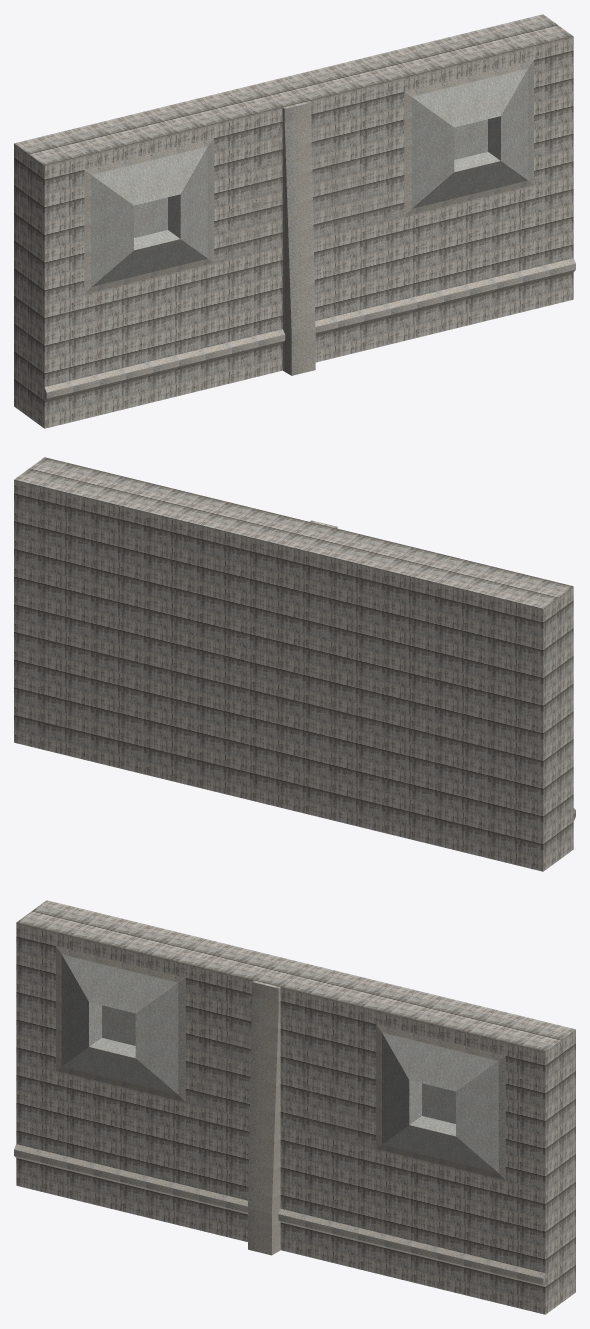
The picture shows the model from 3 angles, top to bottom: view 1: azimuth 30°, elevation 25°; view 2: azimuth 150°, elevation 25°; view 3: azimuth 330°, elevation 25°; orthographic projection.
Visible parts, largest first — view 1: TexturesCom_ConcreteLeaking0255_1_M, TexturesCom_MetalScratches0021_M, TexturesCom_BrickMessy0175_2_M; view 2: TexturesCom_ConcreteLeaking0255_1_M; view 3: TexturesCom_ConcreteLeaking0255_1_M, TexturesCom_MetalScratches0021_M, TexturesCom_BrickMessy0175_2_M.
Boxes of the visible parts, left/top/right/bottom form: TexturesCom_ConcreteLeaking0255_1_M: left=14, top=14, right=573, bottom=428; TexturesCom_MetalScratches0021_M: left=91, top=68, right=528, bottom=286; TexturesCom_BrickMessy0175_2_M: left=44, top=60, right=575, bottom=400; TexturesCom_ConcreteLeaking0255_1_M: left=14, top=457, right=575, bottom=871; TexturesCom_ConcreteLeaking0255_1_M: left=16, top=900, right=575, bottom=1314; TexturesCom_MetalScratches0021_M: left=61, top=954, right=498, bottom=1172; TexturesCom_BrickMessy0175_2_M: left=14, top=946, right=545, bottom=1286.
Size of the model in its own units: 20 by 9.5 by 2.54.
Materials: 3 (3 with a texture image).
